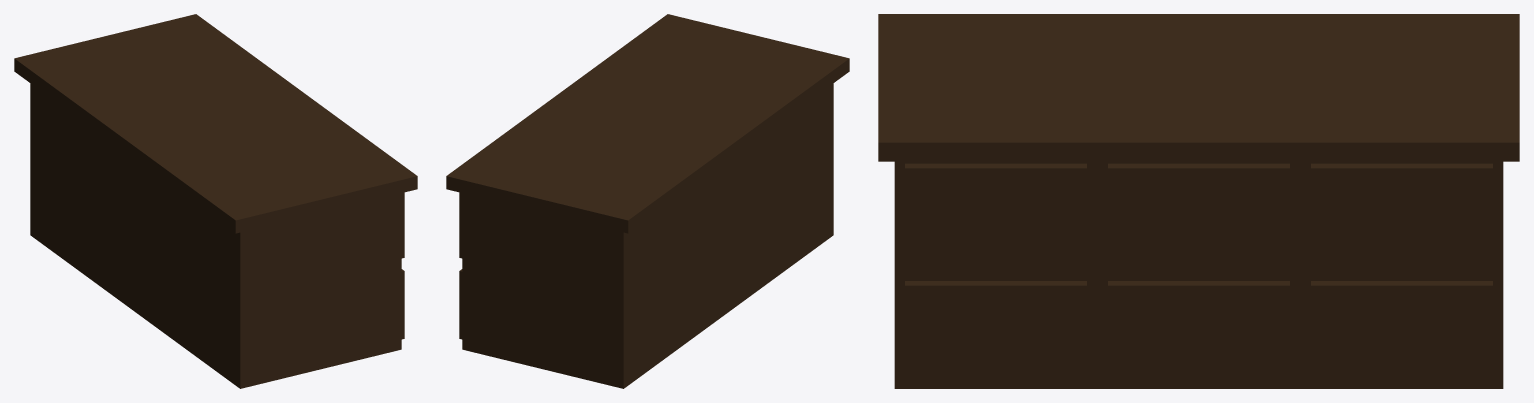
File: WoodTable_4.FBX
The picture shows the model from 3 angles, left to right: view 1: azimuth 30°, elevation 25°; view 2: azimuth 150°, elevation 25°; view 3: azimuth 270°, elevation 25°; orthographic projection. The views are drawn at different scales.
Parts seen in each view (by area): view 1: Plane020; view 2: Plane020; view 3: Plane020.
Boxes of the visible parts, x1,y1,x2,y2 form: Plane020: [14, 14, 417, 388]; Plane020: [446, 14, 849, 388]; Plane020: [878, 14, 1519, 388].
Bounding box in the file's own units: 27.61 × 25.41 × 58.25.
